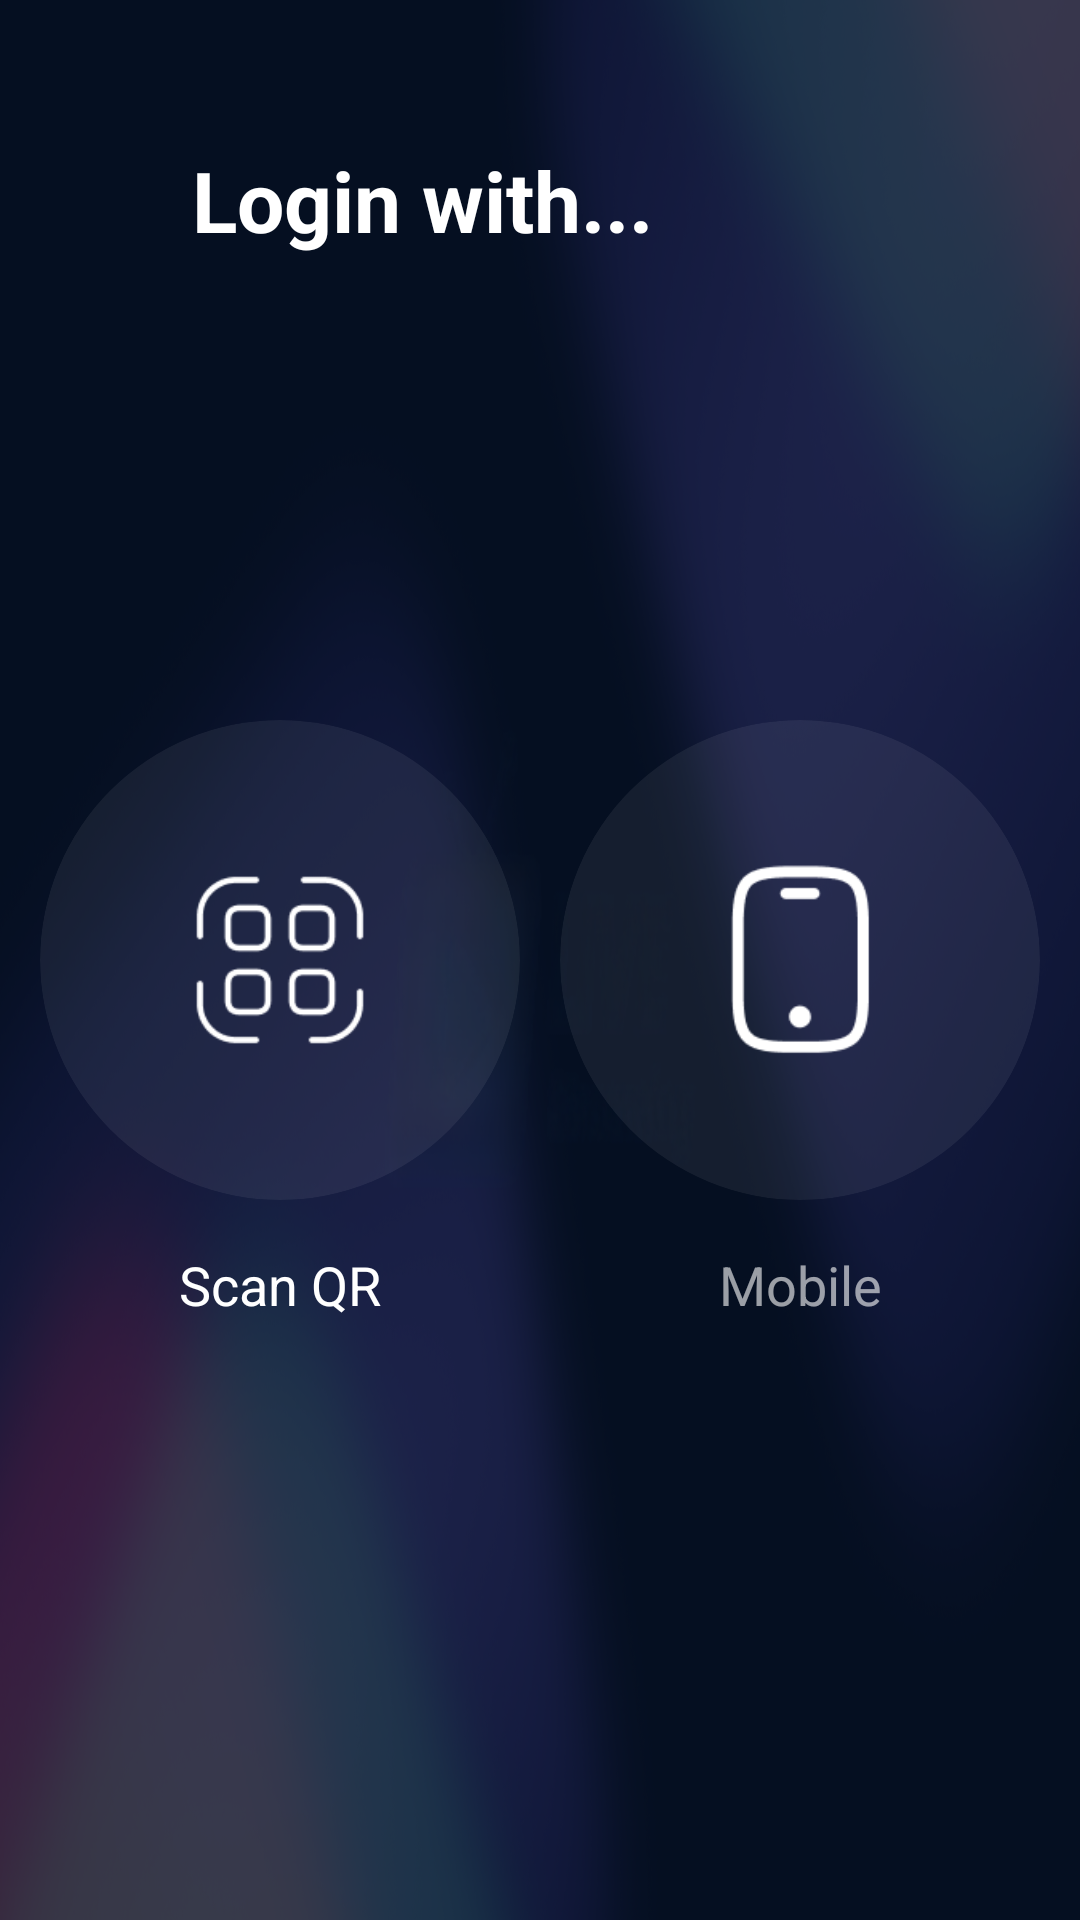

Icons on this 1080px×1920px Android screen, each with the point to tap as [x,y]:
mobile: [786,960]
